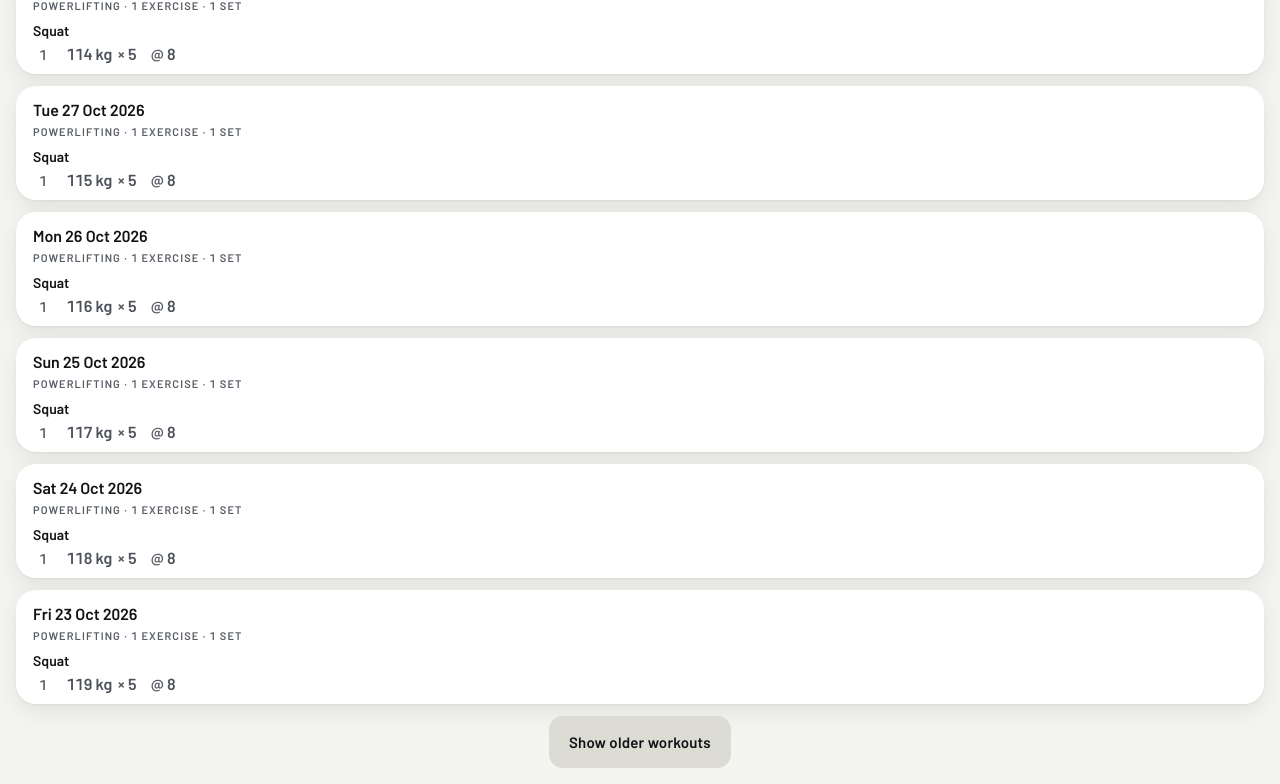
it: workout history › aLongLog_isDrawnTwentyWorkoutsAtATime
(page scrolled)
Click the button "Show older workouts" at (640, 742), box [549,716,731,768]
(page scrolled)
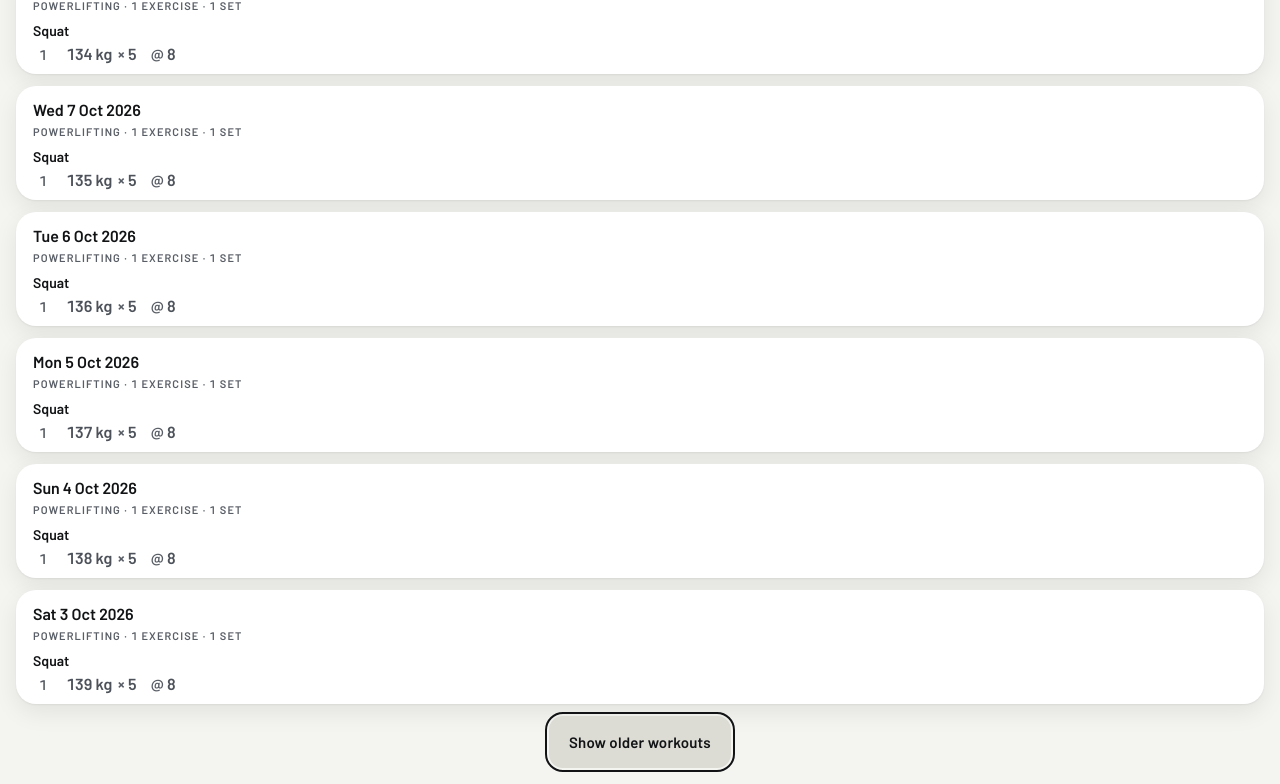
Click the button "Show older workouts" at (640, 742), box [549,716,731,768]
(page scrolled)
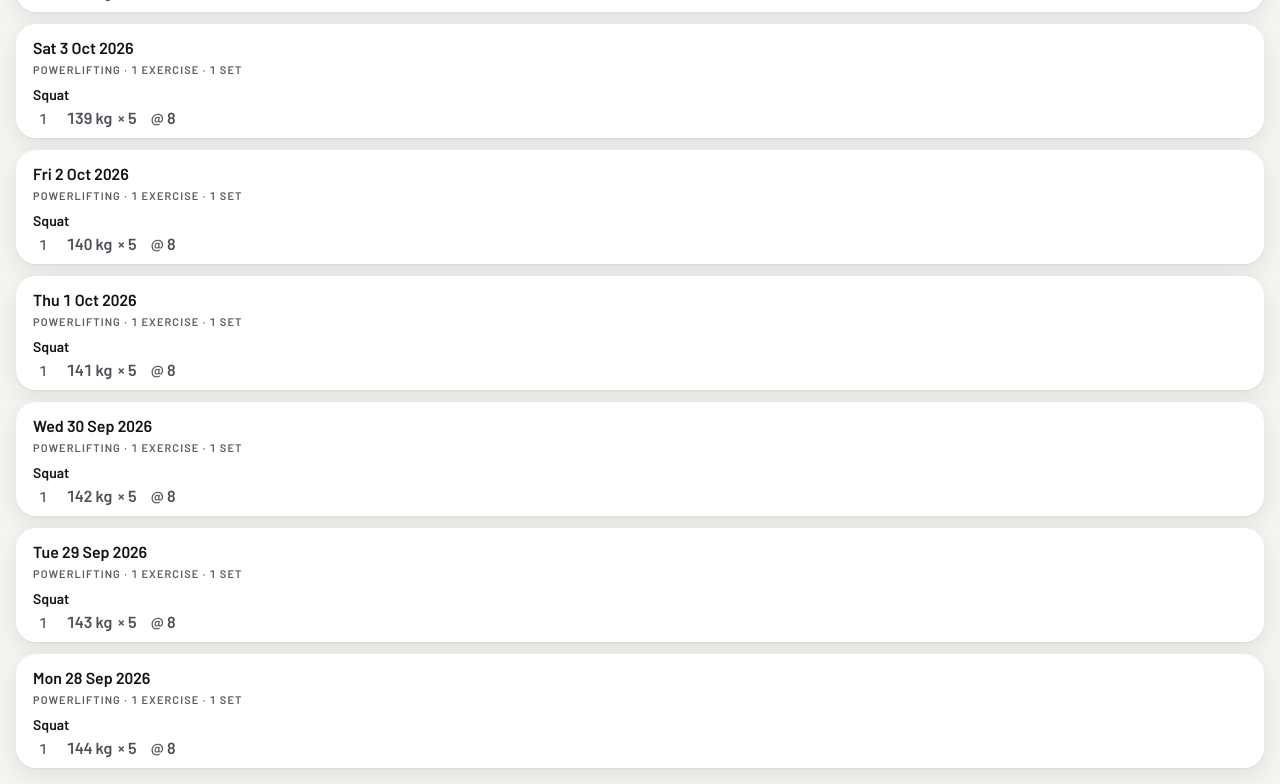
expect the heading "Mon 28 Sep 2026" is shown: met, box [33,668,150,687]
expect the button "Show older workouts" is gone: met
